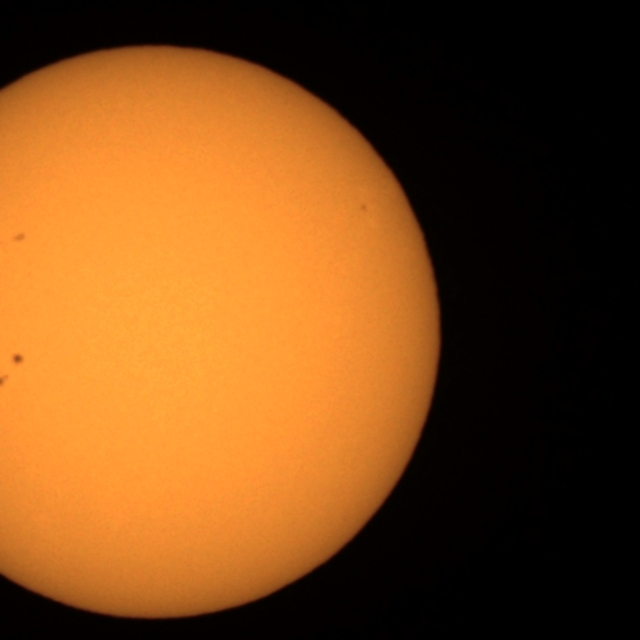sunspot: (10, 231, 28, 245), (10, 352, 26, 367), (0, 372, 10, 390), (359, 202, 369, 214)
